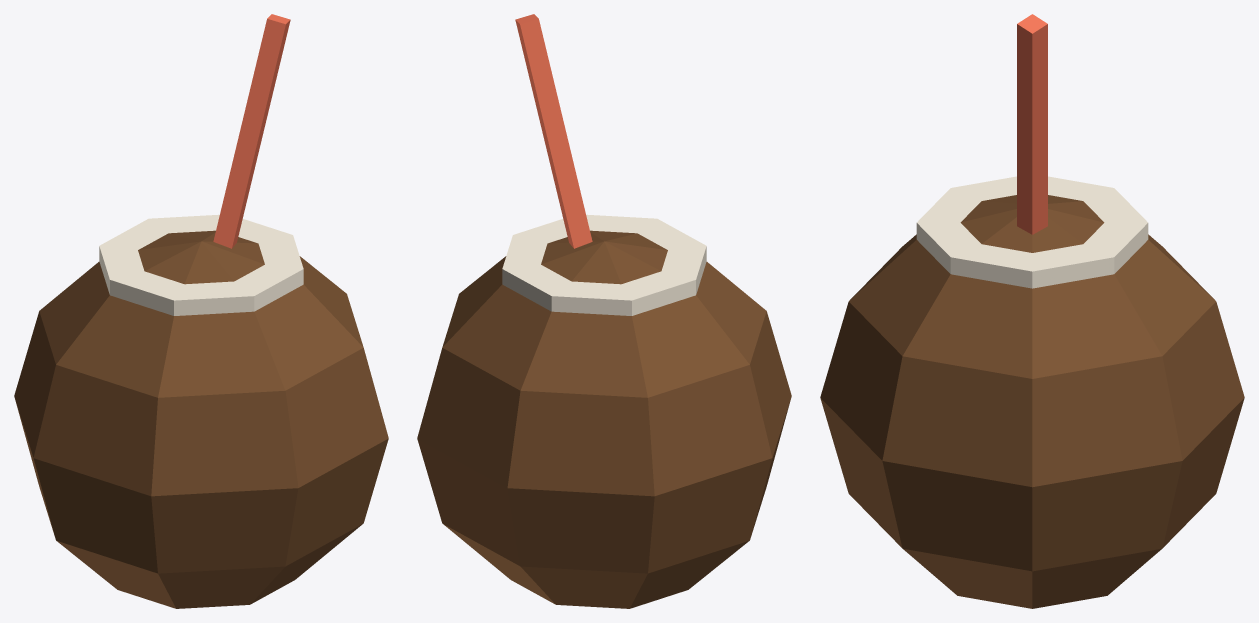
Rendered from good_coconut.glb.
The picture shows the model from 3 angles, left to right: view 1: azimuth 30°, elevation 25°; view 2: azimuth 150°, elevation 25°; view 3: azimuth 270°, elevation 25°; orthographic projection. The views are drawn at different scales.
Parts seen in each view (by area): view 1: good_coconut; view 2: good_coconut; view 3: good_coconut.
Boxes of the visible parts, x1=… form: good_coconut: x1=14, y1=14, x2=388, y2=608; good_coconut: x1=417, y1=14, x2=791, y2=608; good_coconut: x1=820, y1=14, x2=1244, y2=608.
Size of the model in its own units: 0.22 by 0.3493 by 0.22.
